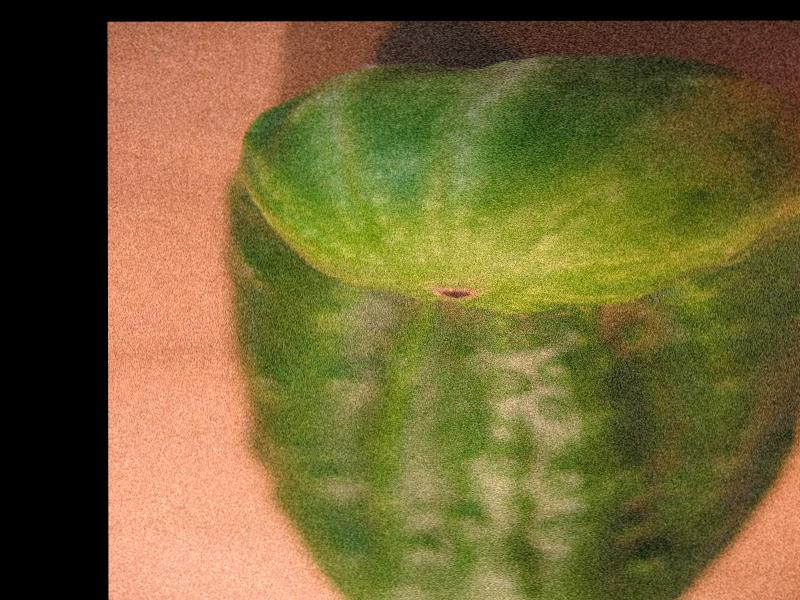Cucumber: (224, 57, 800, 600)
